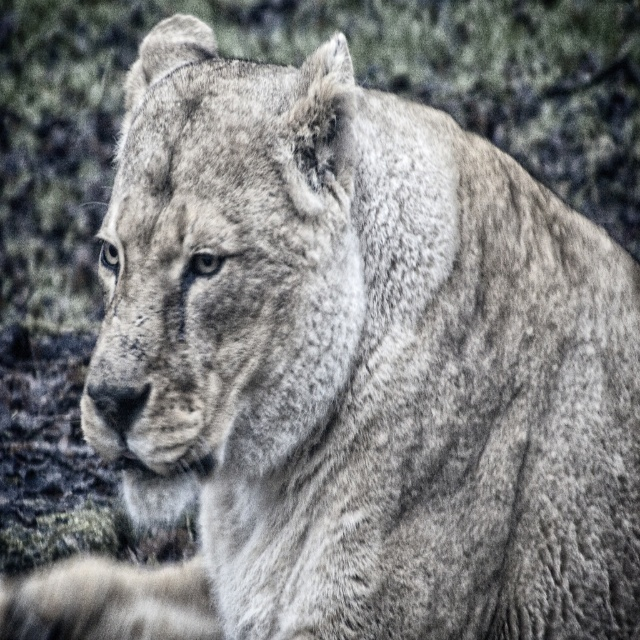Lion: (0, 13, 640, 639)
